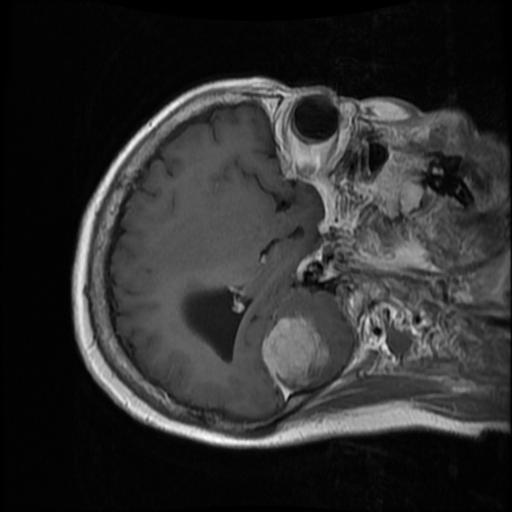meningioma: (260, 316, 327, 392)
